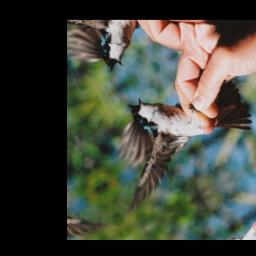Swallow: (76, 48, 256, 226)
